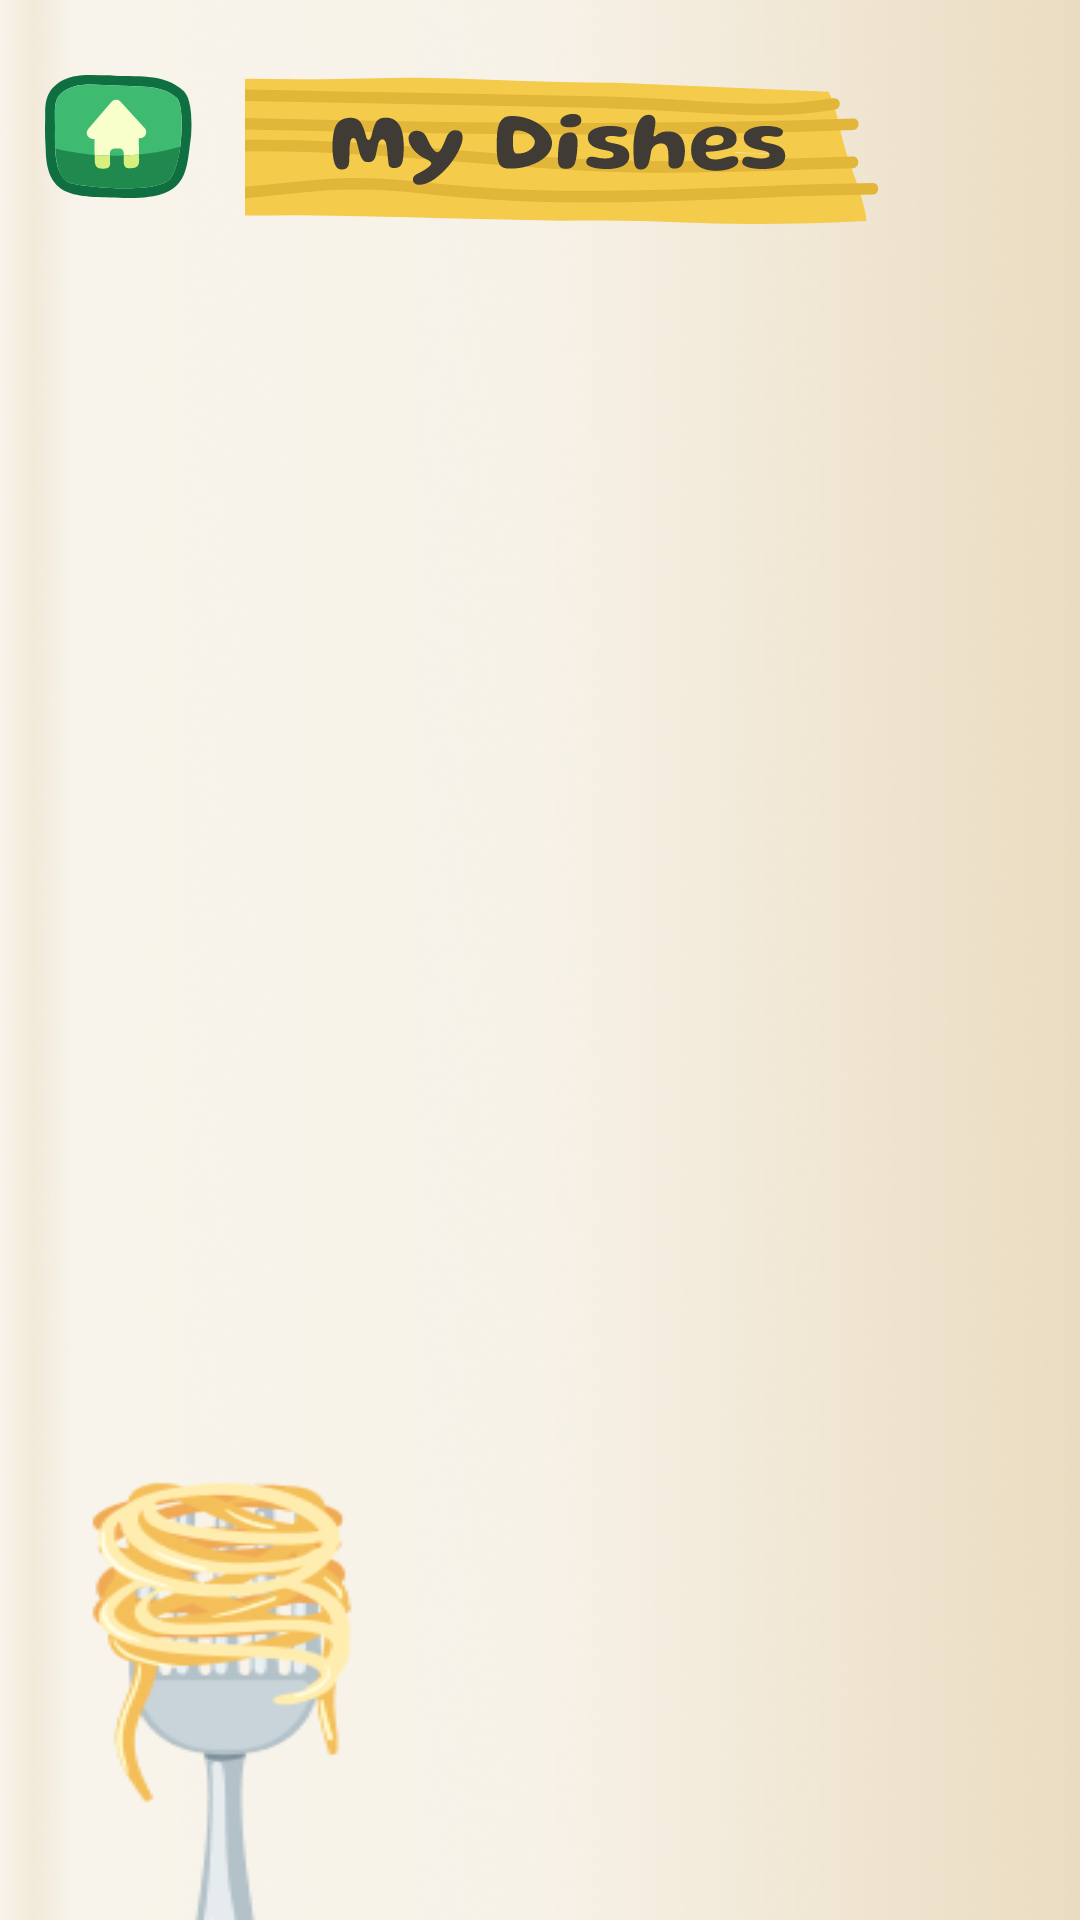

Named icons in this screenshot (1080w x 1920h) and their centers, (x,y):
back home: (118,136)
